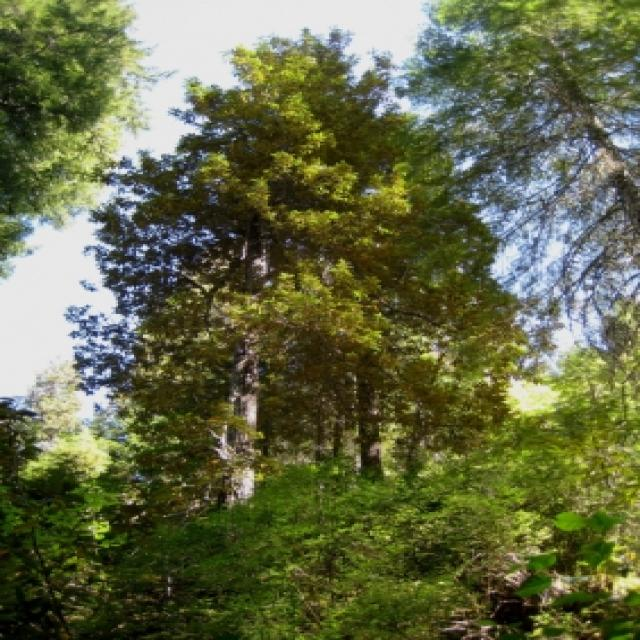Chrysolepis chrysophylla: (70, 29, 503, 503)
